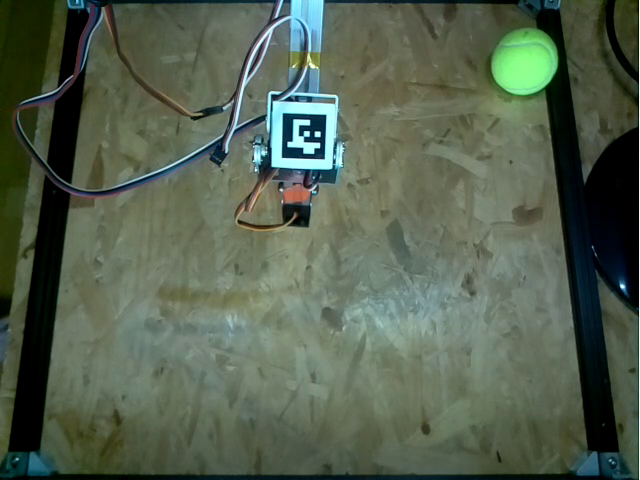tennis_ball: (491, 26, 558, 96)
